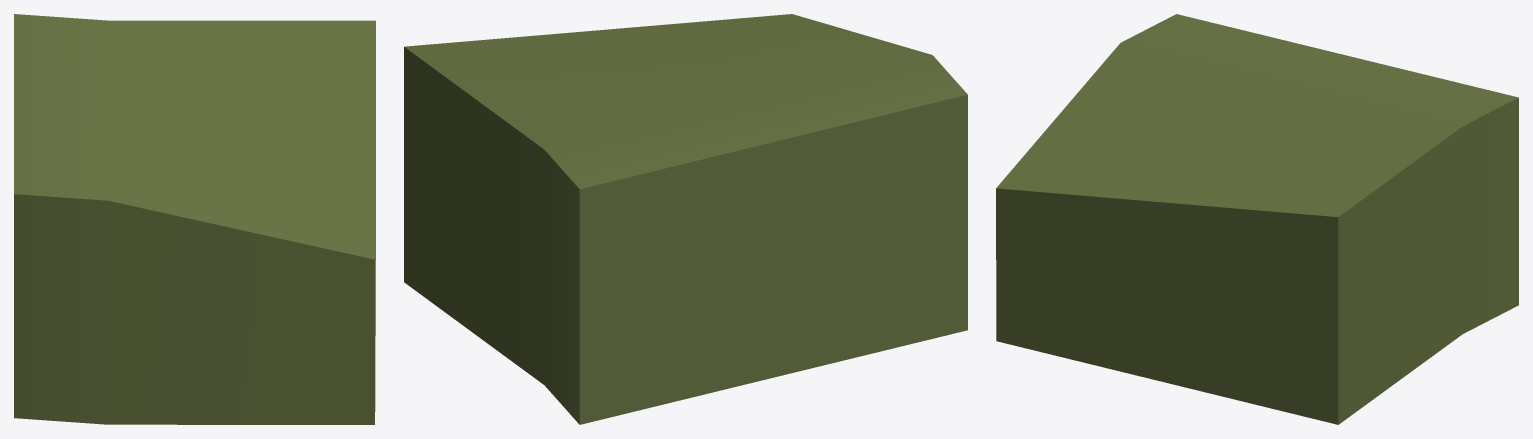
The model's file is ground_29.fbx.
3 renders of one model, left to right at view 1: azimuth 30°, elevation 25°; view 2: azimuth 150°, elevation 25°; view 3: azimuth 270°, elevation 25°, orthographic. The views are drawn at different scales.
Visible parts, largest first — view 1: ground_29; view 2: ground_29; view 3: ground_29.
Boxes of the visible parts, x1,y1,x2,y2 form: ground_29: (14,14,375,424); ground_29: (404,14,967,424); ground_29: (996,14,1518,424).
Bounding box in the file's own units: 19.41 × 9.26 × 21.11.
